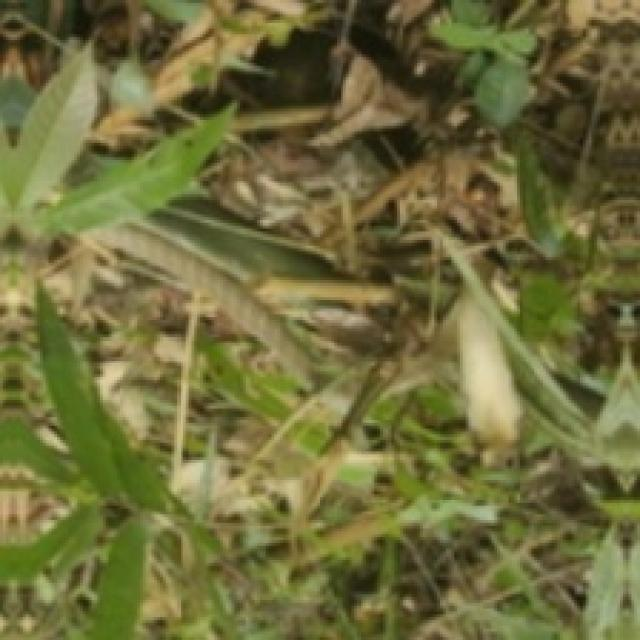king cobra: (95, 221, 319, 389), (311, 291, 522, 448)
